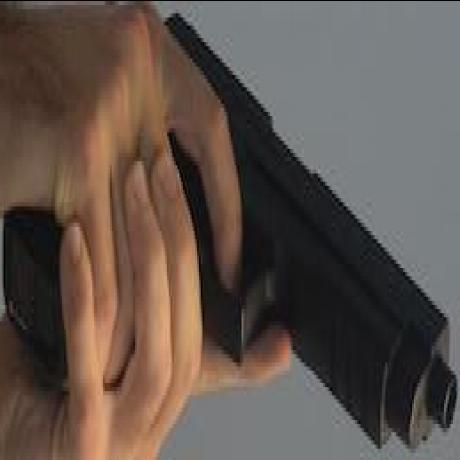1: (0, 11, 255, 460)
weapon: (72, 18, 460, 455)
